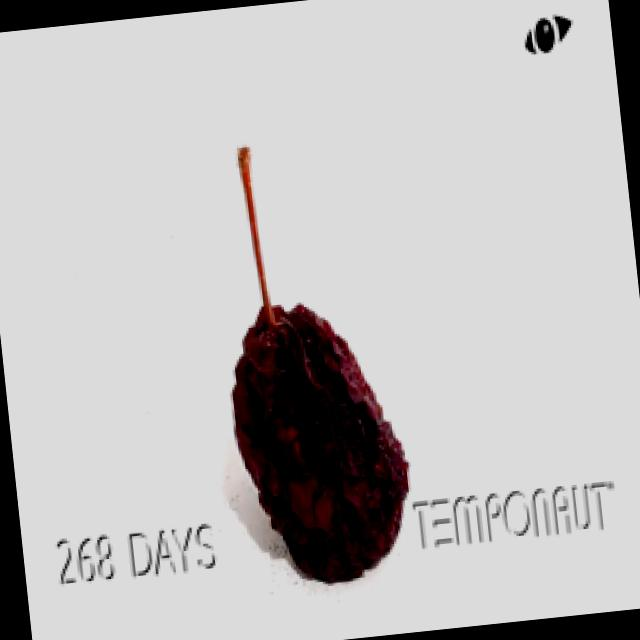Rotten_Apple: (160, 30, 471, 602)
